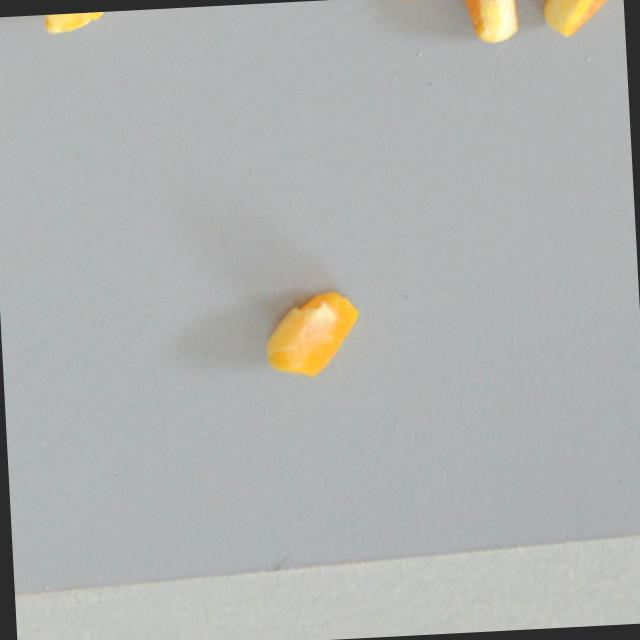dañado: (259, 282, 365, 383), (537, 0, 626, 44), (455, 0, 528, 52), (7, 10, 117, 44)
